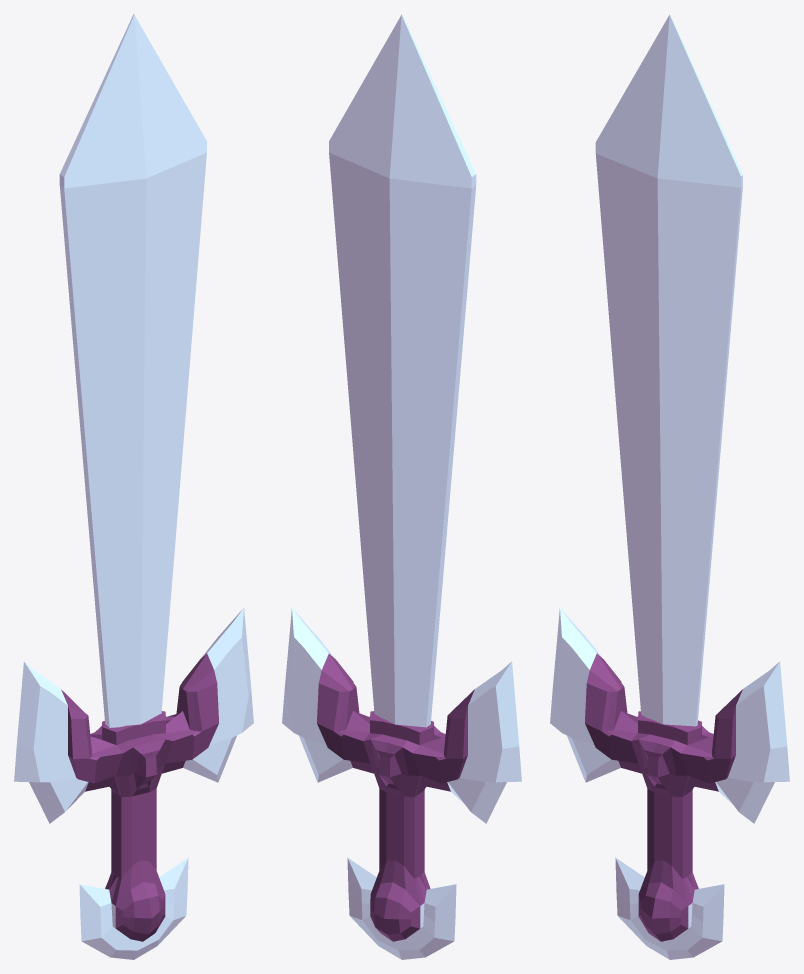
Rendered from NEWfinalSword.fbx.
The picture shows the model from 3 angles, left to right: view 1: azimuth 30°, elevation 25°; view 2: azimuth 150°, elevation 25°; view 3: azimuth 330°, elevation 25°; orthographic projection.
Parts seen in each view (by area): view 1: blade, hilt; view 2: blade, hilt; view 3: blade, hilt.
Boxes of the visible parts, x1=… form: blade: x1=59, y1=14, x2=206, y2=727; hilt: x1=14, y1=608, x2=253, y2=959; blade: x1=329, y1=14, x2=476, y2=727; hilt: x1=282, y1=608, x2=521, y2=959; blade: x1=595, y1=14, x2=742, y2=726; hilt: x1=550, y1=608, x2=789, y2=959.
Size of the model in its own units: 14.52 by 54.71 by 3.79.
